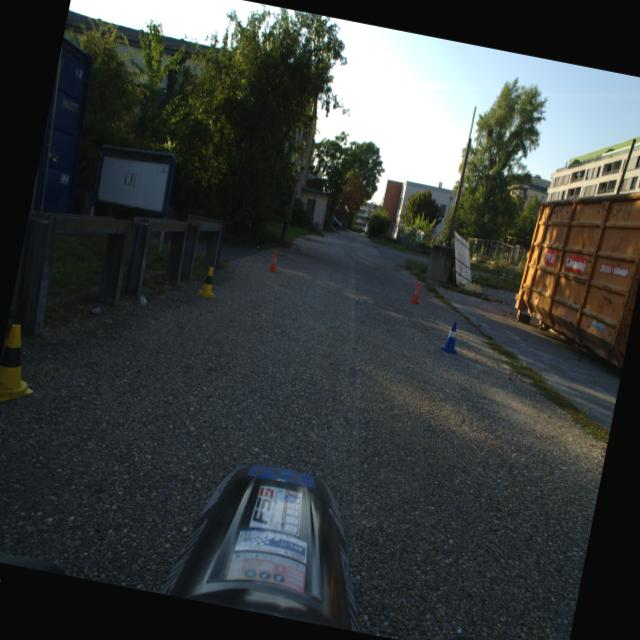blue_cone: (440, 318, 462, 355)
orange_cone: (409, 282, 424, 305), (268, 250, 282, 273)
yellow_cone: (0, 323, 46, 407), (196, 265, 221, 299)
